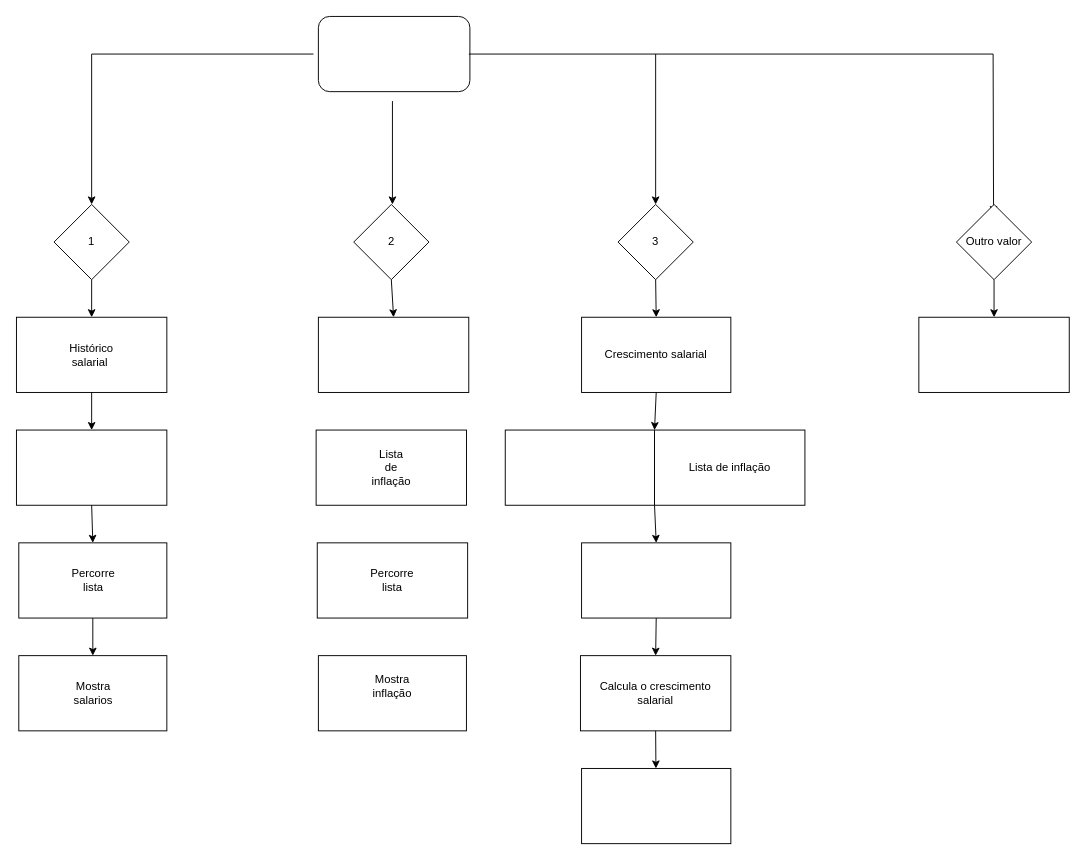
The diagram is 1086 pixels wide and 860 high, and some of its shapes have lost their labels. The box of each missing label's shape, as (x1, y1, x2, y2) in pixels:
3 opções: (317, 16, 470, 92)
Histórico Inflação: (317, 316, 469, 392)
Lista de salario: (504, 429, 655, 505)
Lista de salarios: (16, 429, 167, 505)
Mostra o crescimento: (581, 768, 731, 844)
Opção invalida: (918, 316, 1069, 392)
Percorre as listas: (581, 542, 731, 618)
